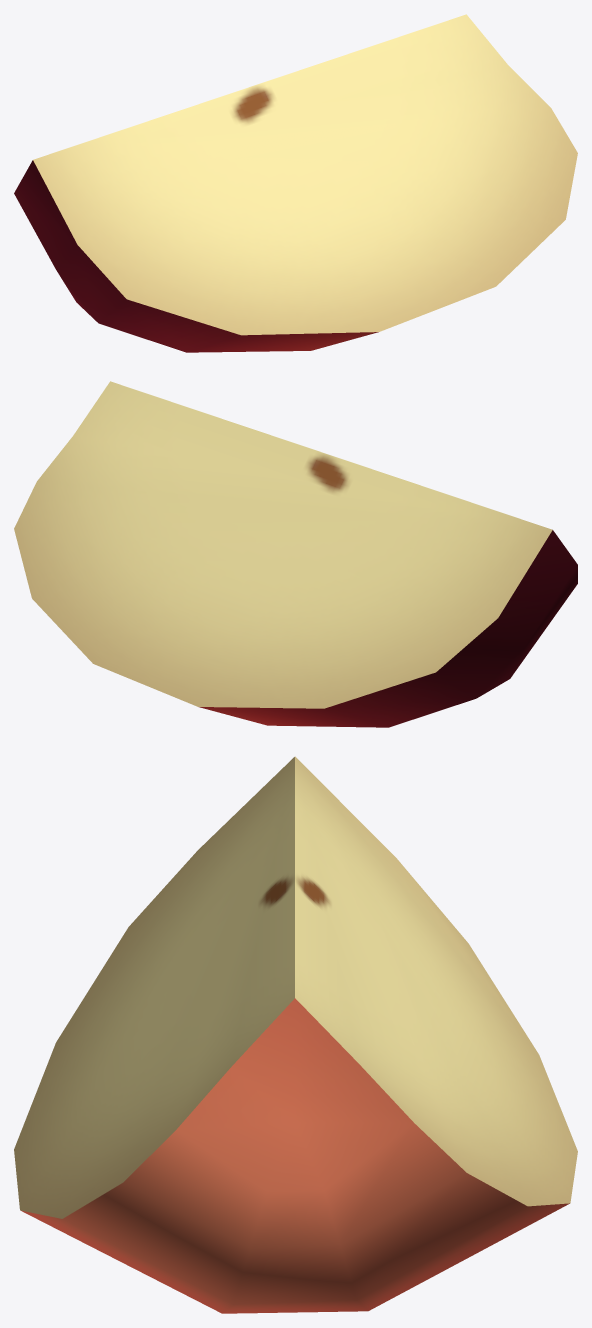
The model's file is Apple_Slice_02.glb.
The picture shows the model from 3 angles, top to bottom: view 1: azimuth 30°, elevation 25°; view 2: azimuth 150°, elevation 25°; view 3: azimuth 270°, elevation 25°; orthographic projection. The views are drawn at different scales.
Parts seen in each view (by area): view 1: Apple_Slice_02; view 2: Apple_Slice_02; view 3: Apple_Slice_02.
Boxes of the visible parts, x1,y1,x2,y2 form: Apple_Slice_02: (14,14,577,352); Apple_Slice_02: (14,381,577,727); Apple_Slice_02: (14,756,577,1313).
Bounding box in the file's own units: 0.2339 × 0.1262 × 0.1678.
1 material, 1 textured.
